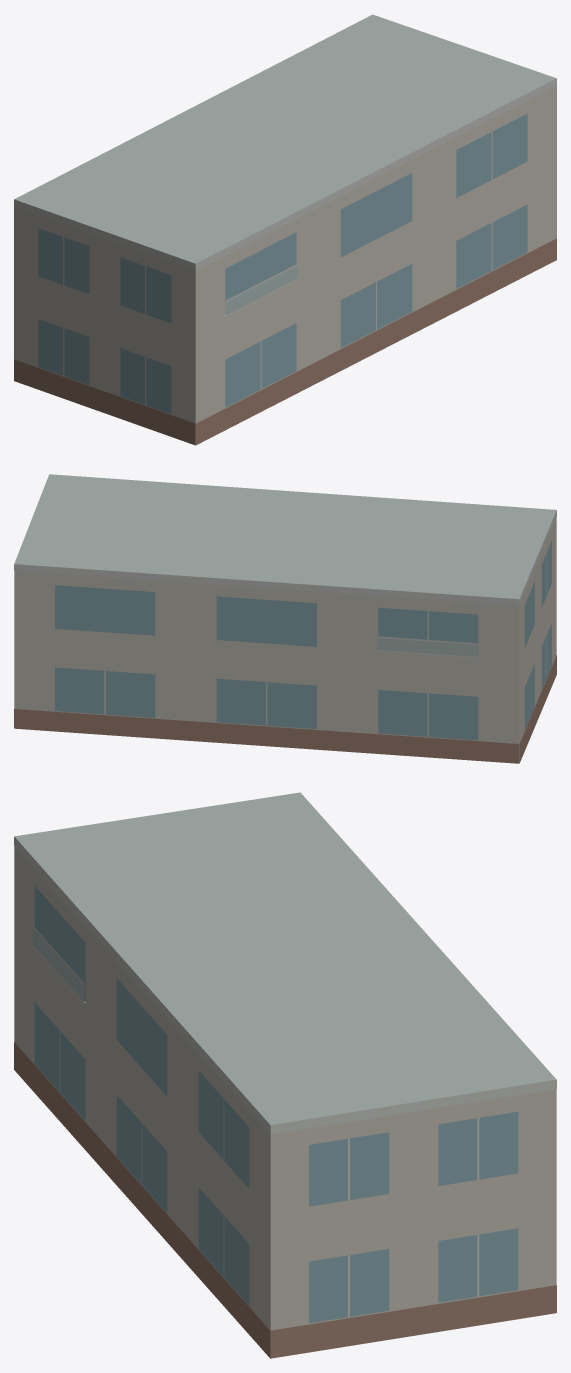
The model's file is survey-upis-32937803.glb.
The picture shows the model from 3 angles, top to bottom: view 1: azimuth 30°, elevation 25°; view 2: azimuth 150°, elevation 25°; view 3: azimuth 270°, elevation 25°; orthographic projection. The views are drawn at different scales.
Visible parts, largest first — view 1: survey-upis-32937803.tmp; view 2: survey-upis-32937803.tmp; view 3: survey-upis-32937803.tmp.
Part boxes in pixels (box(x1,y1,x2,y2)): survey-upis-32937803.tmp: box(14, 14, 556, 445); survey-upis-32937803.tmp: box(14, 474, 556, 763); survey-upis-32937803.tmp: box(14, 792, 556, 1358).
Bounding box in the file's own units: 18.67 × 6.1 × 12.86.
